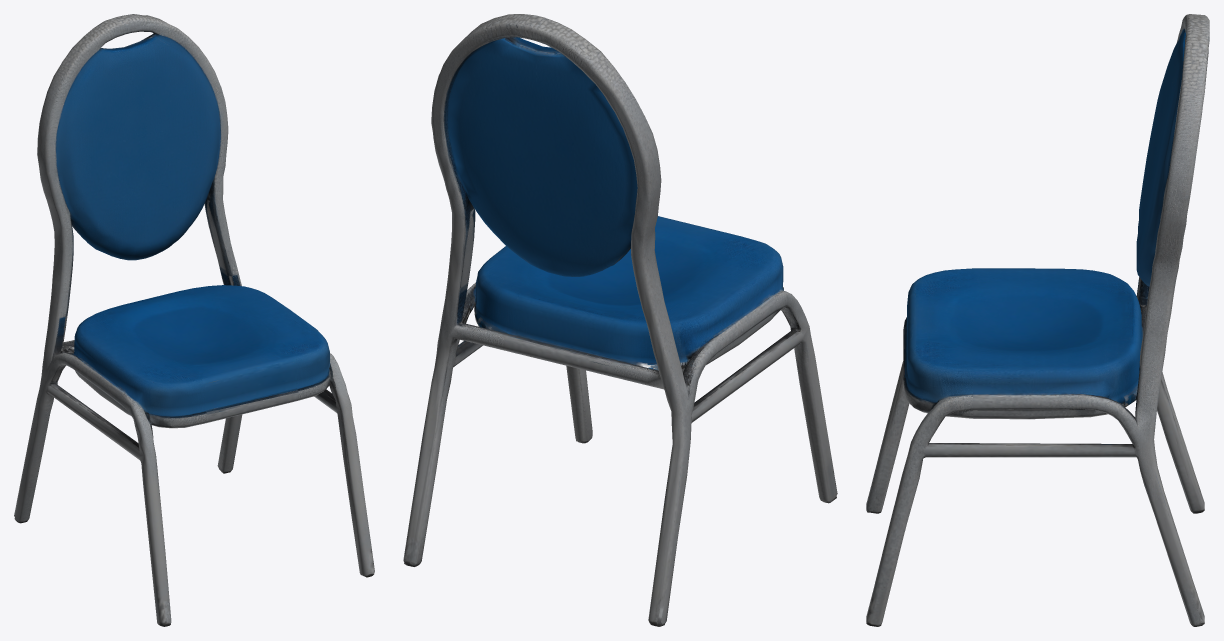
Rendered from oval_Banquet_cchair_b_0320032313_texture.glb.
3 views of the same model, side by side, from view 1: azimuth 30°, elevation 25°; view 2: azimuth 150°, elevation 25°; view 3: azimuth 270°, elevation 25° (orthographic). The views are drawn at different scales.
Visible parts, largest first — view 1: Mesh_0.003; view 2: Mesh_0.003; view 3: Mesh_0.003.
Part boxes in pixels (<box>): Mesh_0.003: <box>14,14,374,626</box>; Mesh_0.003: <box>403,14,837,626</box>; Mesh_0.003: <box>866,14,1209,626</box>.
Size of the model in its own units: 0.4262 by 0.9144 by 0.5201.
Materials: 1 (1 with a texture image).
